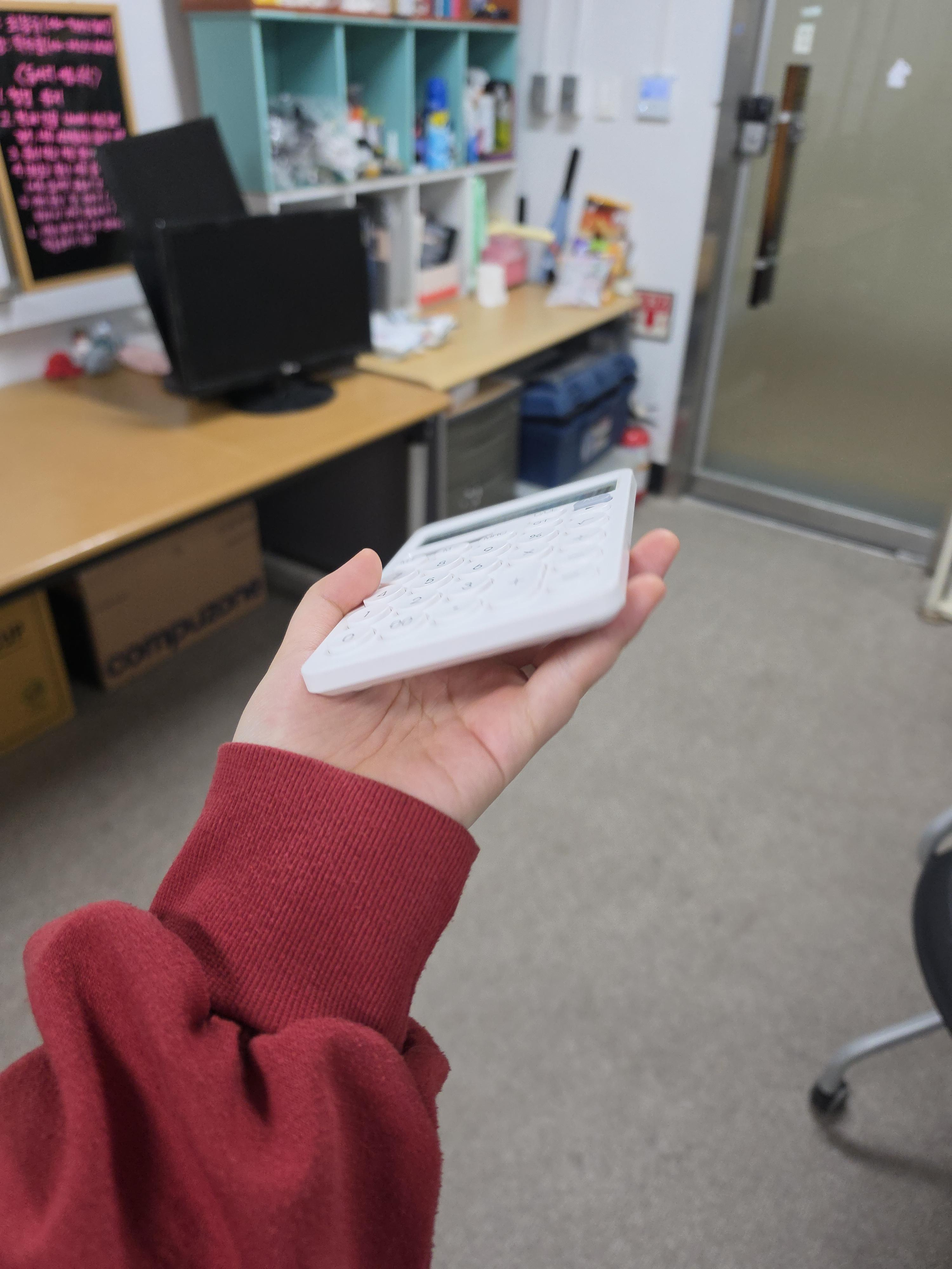calculator: (300, 468, 637, 696)
